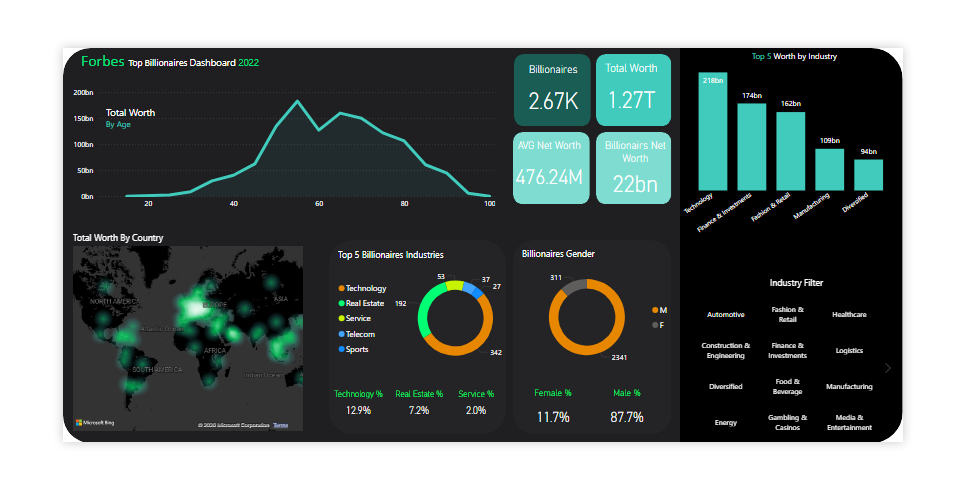

This screenshot's page, from the dashboard's own definition file:
{"tool":"powerbi","page":{"name":"Dashboard 1","canvas":[1400,658],"ordinal":0},"visuals":[{"type":"shape","box":[0,0,1231.4,658.6],"z":0},{"type":"shape","box":[1028.6,0,371.4,658.6],"z":1000},{"type":"shape","box":[889,10,125.5,120.2],"z":2000,"group":"g1"},{"type":"shape","box":[750,320,264.3,324.3],"z":2000},{"type":"shape","box":[752.9,10,128.2,120.2],"z":3000,"group":"g1"},{"type":"shape","box":[442.5,320,295,323.8],"z":3000},{"type":"textbox","box":[67.4,92.5,157.2,47.6],"z":4000},{"type":"textbox","box":[24.6,0,319.8,54.9],"z":5000},{"type":"shape","box":[889,140.8,125.5,120.2],"z":5000,"group":"g1"},{"type":"textbox","box":[1142.9,0,158.6,31.4],"z":6000},{"type":"donutChart","title":"Billionaires Gender","fields":{"Category":["forbes_2022_billionaires.gender"],"Y":["Measures Table.#Billionaires"]},"box":[760,331.2,261.2,213.8],"z":7000},{"type":"areaChart","fields":{"Category":["forbes_2022_billionaires.age (bins)"],"Y":["Measures Table.Total_worth"]},"box":[11.4,60,714.3,217.1],"z":8000},{"type":"shape","box":[750.2,140.8,128.2,120.2],"z":8000,"group":"g1"},{"type":"group","id":"g1","title":"Group 1","box":[735.7,10,292.9,250],"z":9000},{"type":"card","title":"Billionaires","fields":{"Values":["Measures Table.#Billionairs"]},"box":[742.3,24.5,150.6,99.1],"z":10000,"group":"g1"},{"type":"card","title":"Male %","fields":{"Values":["Measures Table.Male%"]},"box":[885.7,564.3,110,80],"z":10000},{"type":"card","title":"Total Worth","fields":{"Values":["Measures Table.Total_worth"]},"box":[871.8,21.9,150.6,99.1],"z":11000,"group":"g1"},{"type":"slicer","fields":{"Values":["forbes_2022_billionaires.category"]},"box":[1028.6,390,357.1,268.6],"z":11000},{"type":"columnChart","title":"Top 5 Worth by Category","fields":{"Category":["forbes_2022_billionaires.category"],"Y":["Measures Table.Total_worth"]},"box":[1028.6,27.1,371.4,292.9],"z":12000},{"type":"card","title":"Billionairs Net Worth","fields":{"Values":["Measures Table.Females"]},"box":[878.4,151.4,150.6,99.1],"z":12000,"group":"g1"},{"type":"card","title":"AVG Net    Worth","fields":{"Values":["Measures Table.net worth_AVG"]},"box":[735.7,151.4,150.6,99.1],"z":13000,"group":"g1"},{"type":"card","title":"Female %","fields":{"Values":["Measures Table.female%"]},"box":[761.4,564.3,110,80],"z":13000},{"type":"donutChart","title":"Top 5 Billionaires Industries","fields":{"Y":["Measures Table.#Billionaires"],"Category":["forbes_2022_billionaires.category"]},"box":[452.5,333.8,311.2,213.8],"z":14000},{"type":"card","title":"Technology %","fields":{"Values":["Measures Table.technology%"]},"box":[440,567.5,103.8,55],"z":15000},{"type":"card","title":"Real Estate %","fields":{"Values":["Measures Table.real_estate%"]},"box":[548.8,567.5,90,55],"z":16000},{"type":"card","title":"Service %","fields":{"Values":["Measures Table.service%"]},"box":[643.8,567.5,90,55],"z":17000},{"type":"map","title":"Total Worth By Country","fields":{"Category":["forbes_2022_billionaires.country","forbes_2022_billionaires.city","forbes_2022_billionaires.finalWorth"]},"box":[11.2,305,392.5,338.8],"z":18000},{"type":"textbox","box":[1172.9,374.3,158.6,31.4],"z":19000}]}

Visuals, with their boxes on the page's 1400x658 design canvas (x1, y1, x2, y2). These are canvas units, not pixel positions in the 956x487 screenshot, which may show the page scaled, cropped or inside an application window:
shape: <region>0, 0, 1231, 659</region>
shape: <region>1029, 0, 1400, 659</region>
shape: <region>889, 10, 1014, 130</region>
shape: <region>750, 320, 1014, 644</region>
shape: <region>753, 10, 881, 130</region>
shape: <region>442, 320, 738, 644</region>
textbox: <region>67, 92, 225, 140</region>
textbox: <region>25, 0, 344, 55</region>
shape: <region>889, 141, 1014, 261</region>
textbox: <region>1143, 0, 1302, 31</region>
"Billionaires Gender" donutChart: <region>760, 331, 1021, 545</region>
areaChart - forbes_2022_billionaires.age (bins) x Measures Table.Total_worth: <region>11, 60, 726, 277</region>
shape: <region>750, 141, 878, 261</region>
"Group 1" group: <region>736, 10, 1029, 260</region>
"Billionaires" card: <region>742, 24, 893, 124</region>
"Male %" card: <region>886, 564, 996, 644</region>
"Total Worth" card: <region>872, 22, 1022, 121</region>
slicer - forbes_2022_billionaires.category: <region>1029, 390, 1386, 659</region>
"Top 5 Worth by Category" columnChart: <region>1029, 27, 1400, 320</region>
"Billionairs Net Worth" card: <region>878, 151, 1029, 250</region>
"AVG Net    Worth" card: <region>736, 151, 886, 250</region>
"Female %" card: <region>761, 564, 871, 644</region>
"Top 5 Billionaires Industries" donutChart: <region>452, 334, 764, 548</region>
"Technology %" card: <region>440, 568, 544, 622</region>
"Real Estate %" card: <region>549, 568, 639, 622</region>
"Service %" card: <region>644, 568, 734, 622</region>
"Total Worth By Country" map: <region>11, 305, 404, 644</region>
textbox: <region>1173, 374, 1332, 406</region>
